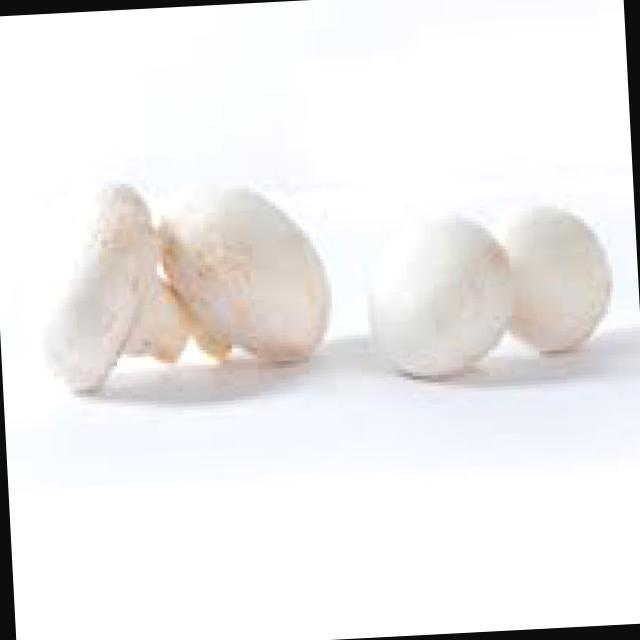Agaricus bisporus: (15, 172, 192, 394), (157, 184, 336, 382), (364, 214, 516, 392), (487, 194, 620, 361)
